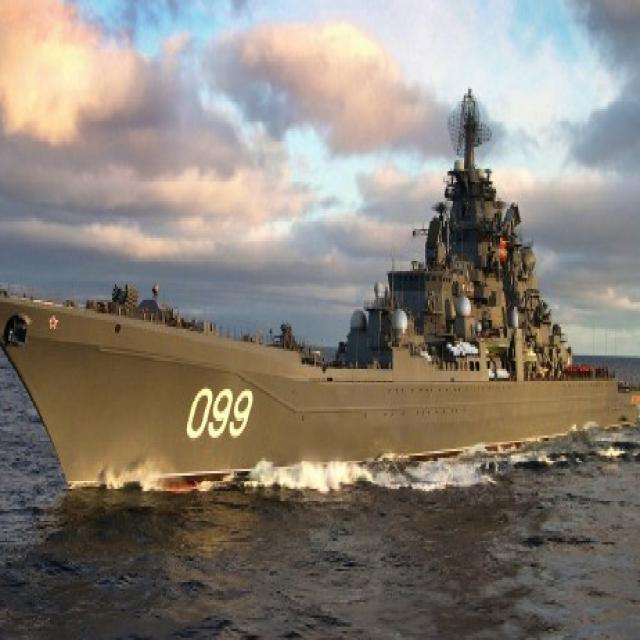navalvessels: (0, 95, 640, 489)
